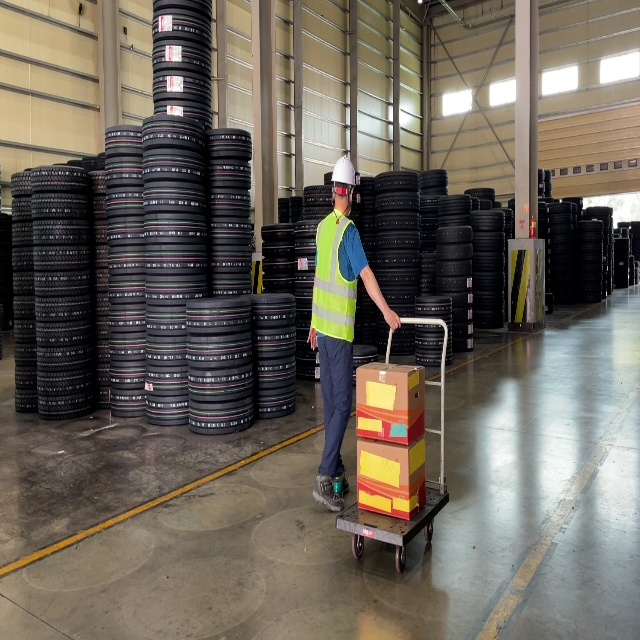Box: (356, 435, 426, 521), (356, 361, 425, 446)
Worker: (306, 155, 402, 513)
